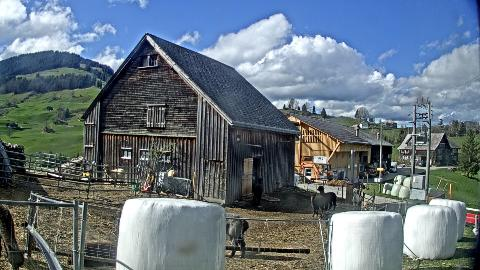car: (390, 166, 398, 172), (418, 162, 426, 166)
sheep: (0, 200, 28, 270), (226, 212, 250, 258), (72, 242, 118, 266), (102, 164, 126, 188), (310, 192, 326, 219), (318, 186, 336, 210), (252, 177, 264, 207), (352, 188, 362, 210), (363, 201, 373, 210)
